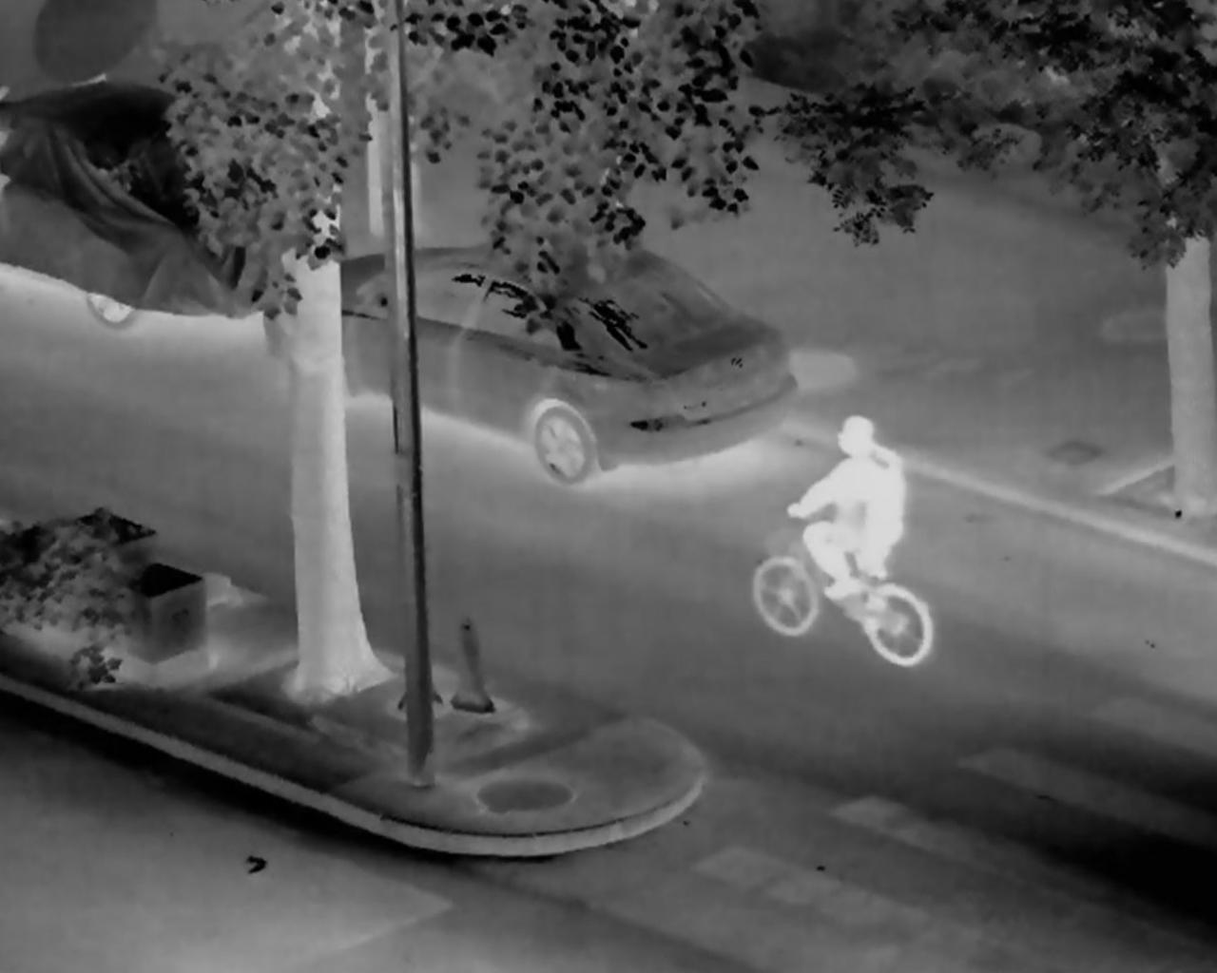person: (786, 416, 904, 605)
